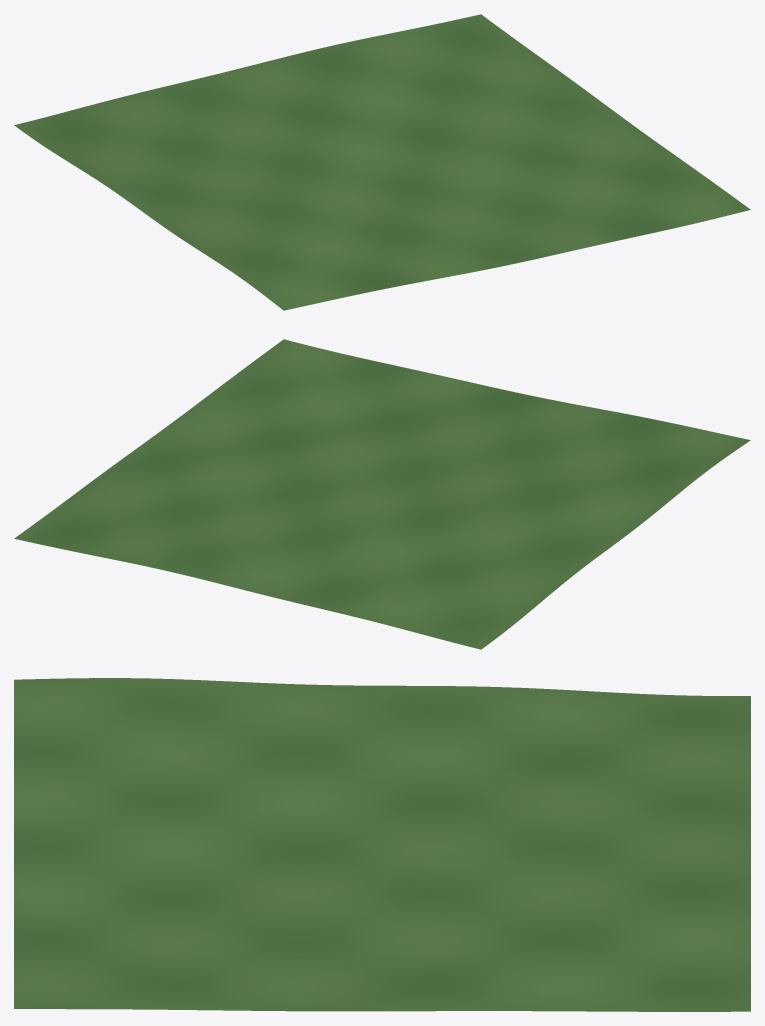
Rendered from chunk_10_4.glb.
3 views of the same model, one above another, from view 1: azimuth 30°, elevation 25°; view 2: azimuth 150°, elevation 25°; view 3: azimuth 270°, elevation 25° (orthographic). The views are drawn at different scales.
Bounding box in the file's own units: 512 × 17.24 × 512.
